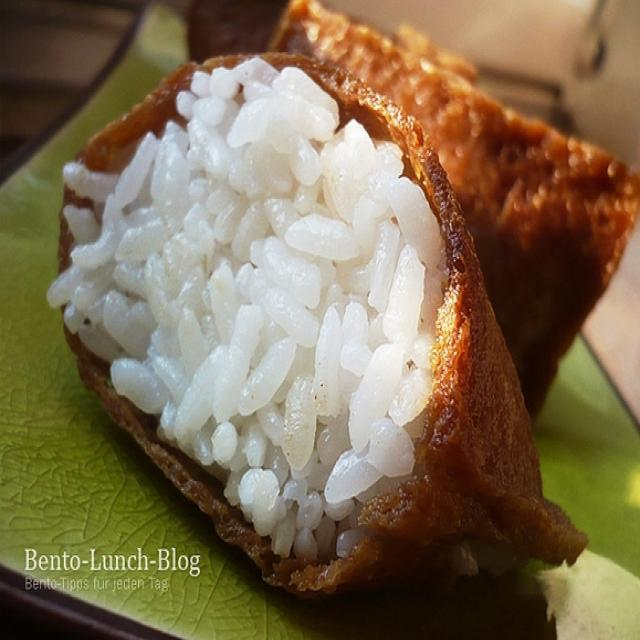寿司卷物: (21, 8, 628, 614)
